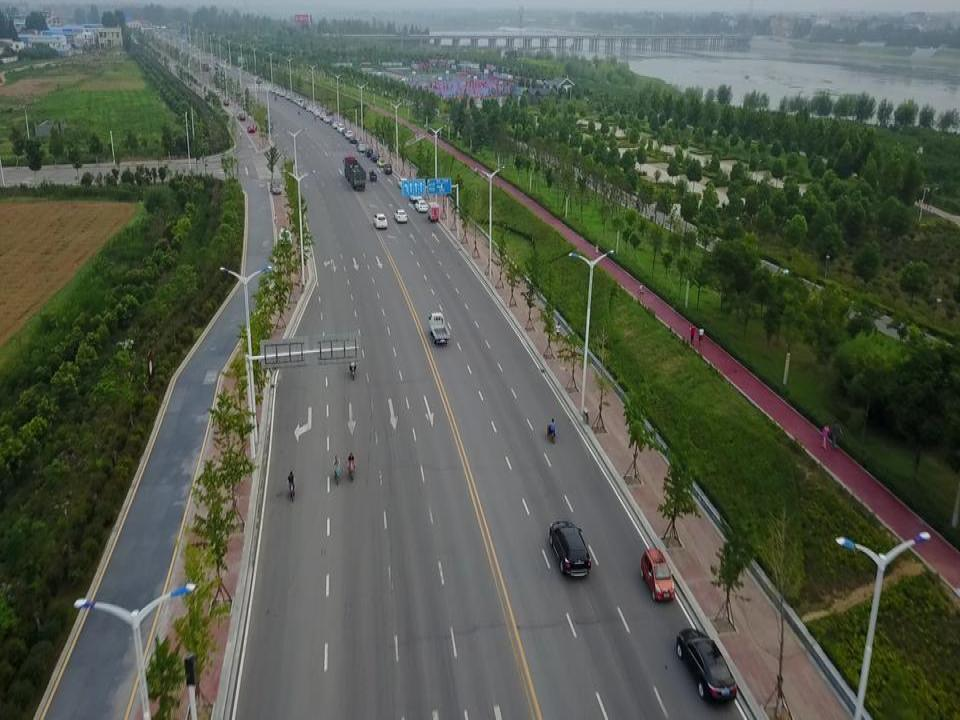car: (675, 624, 738, 701), (549, 515, 593, 581), (640, 546, 676, 601), (372, 210, 386, 230), (394, 209, 407, 223), (416, 196, 428, 211), (408, 187, 420, 201), (397, 175, 409, 188), (383, 160, 393, 175), (237, 110, 246, 122), (370, 150, 379, 162), (344, 127, 353, 138), (358, 144, 367, 155), (336, 122, 344, 134), (365, 146, 373, 158), (376, 156, 386, 165), (348, 133, 356, 143), (248, 122, 254, 134), (323, 115, 331, 124), (319, 112, 327, 120), (342, 127, 349, 136), (222, 98, 229, 106), (332, 120, 338, 128)
truck: (341, 155, 366, 192), (426, 308, 451, 343), (427, 200, 440, 223)
van: (355, 139, 364, 149)
